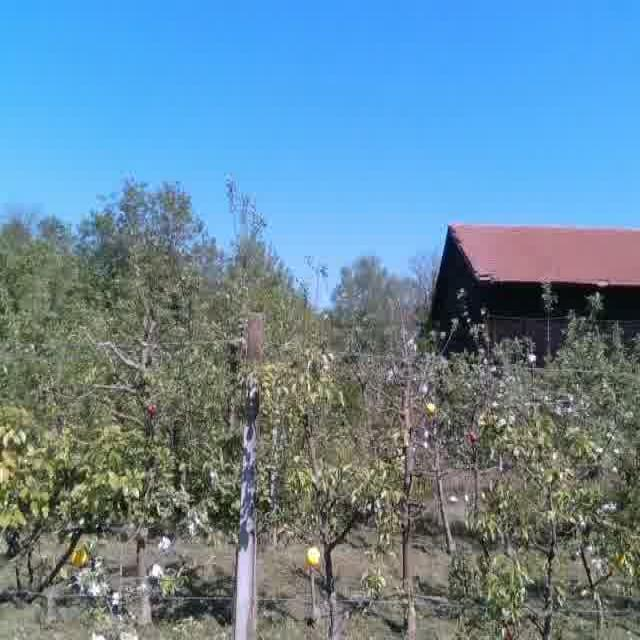red: (466, 428, 479, 446), (145, 399, 160, 414)
yellow: (68, 542, 92, 568), (304, 543, 325, 571), (422, 399, 434, 416)
